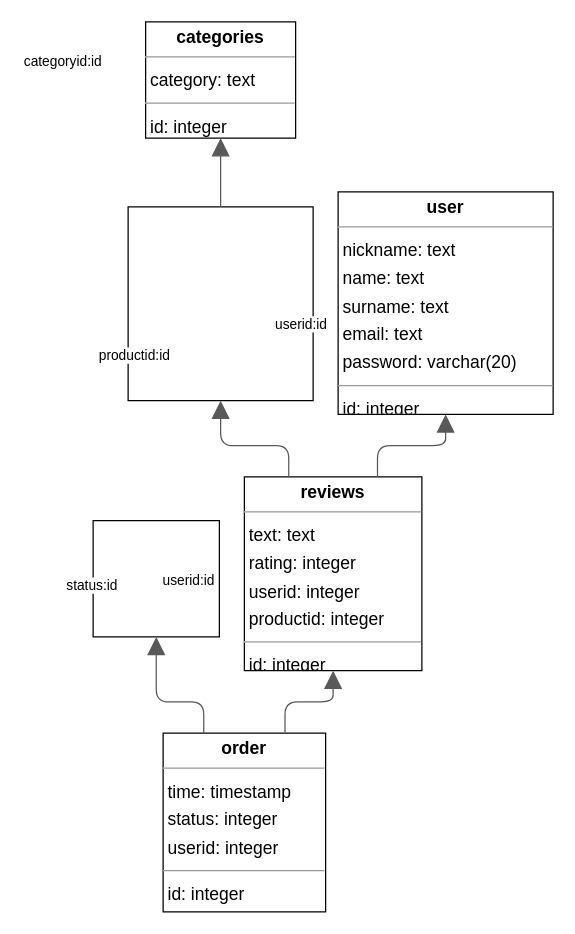
Image size: 575x934. Some labels were removed from this diagram. Each missing label, with the centre of its shape:
product name: text description: text price: real categoryid: integer id: integer: point (220, 303)
status status: text id: integer: point (155, 578)
